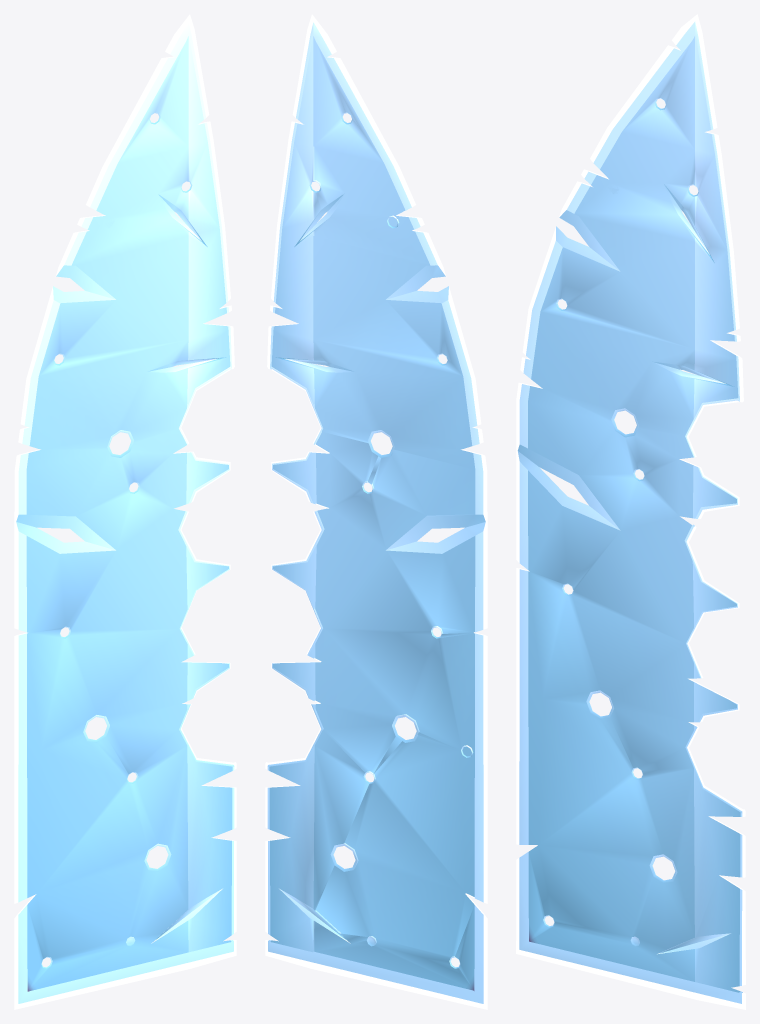
The model's file is steel_blade_bubbles_062.glb.
3 renders of one model, left to right at view 1: azimuth 30°, elevation 25°; view 2: azimuth 150°, elevation 25°; view 3: azimuth 330°, elevation 25°, orthographic. The views are drawn at different scales.
Visible parts, largest first — view 1: steel_blade_bubbles.062; view 2: steel_blade_bubbles.062; view 3: steel_blade_bubbles.062.
Boxes of the visible parts, x1,y1,x2,y2 form: steel_blade_bubbles.062: (14, 14, 236, 1009); steel_blade_bubbles.062: (265, 14, 487, 1009); steel_blade_bubbles.062: (516, 14, 745, 1009).
Bounding box in the file's own units: 2.79 × 11.43 × 0.0204.
1 material, 1 textured.
